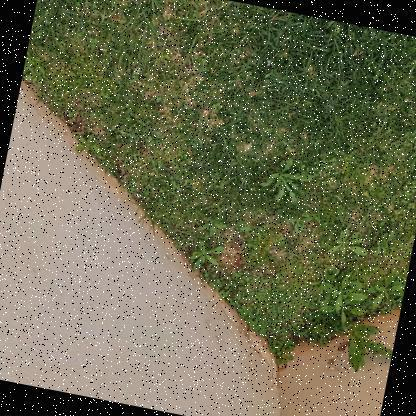Weeds: (340, 320, 396, 378), (258, 155, 317, 208), (321, 272, 369, 315), (318, 293, 368, 330), (370, 266, 408, 312), (326, 227, 370, 262), (187, 238, 225, 277), (307, 265, 341, 300), (20, 53, 48, 88), (282, 208, 314, 238), (370, 225, 395, 261), (196, 214, 227, 237), (73, 137, 104, 156), (238, 222, 265, 242)
